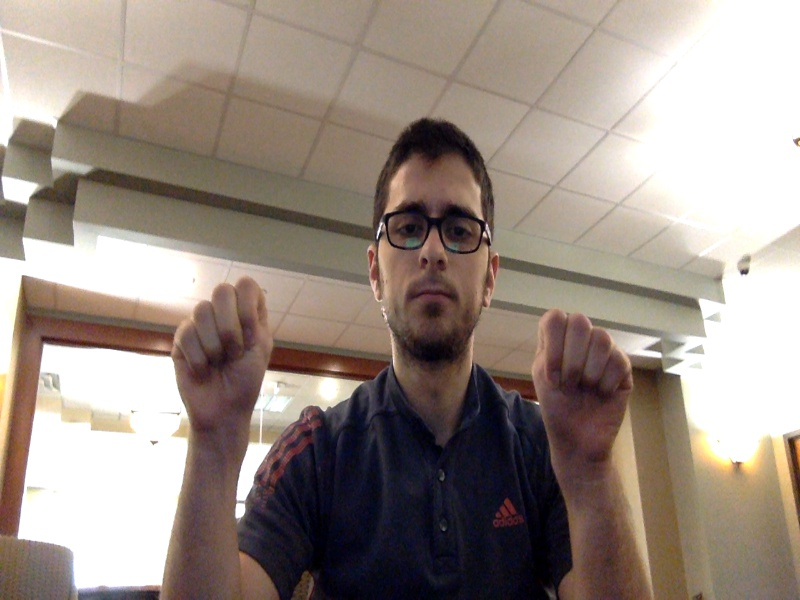0-hand: (168, 279, 272, 439), (533, 308, 632, 468)
